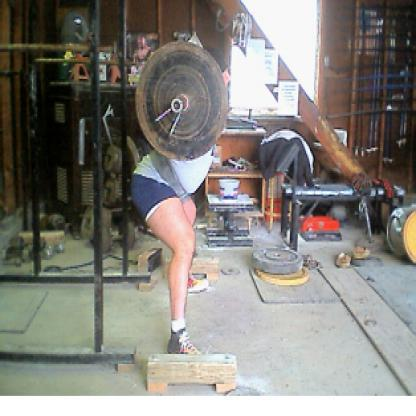barbell: (134, 40, 230, 164)
